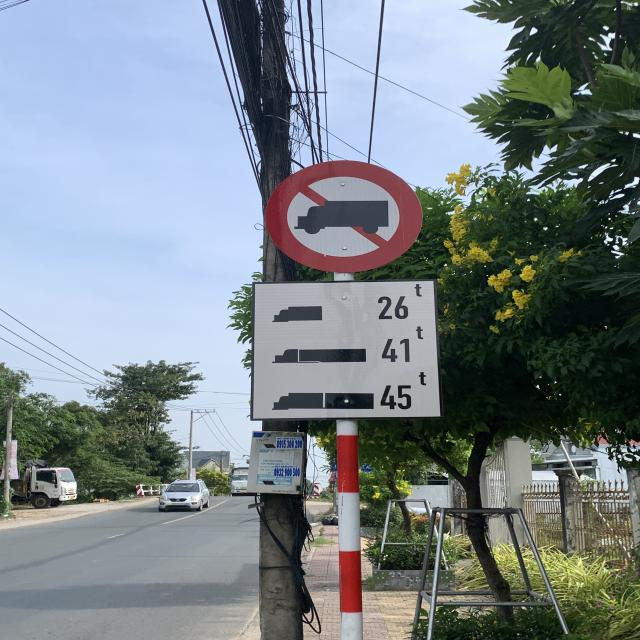Cam_Xe_Tai: (264, 159, 425, 271)
